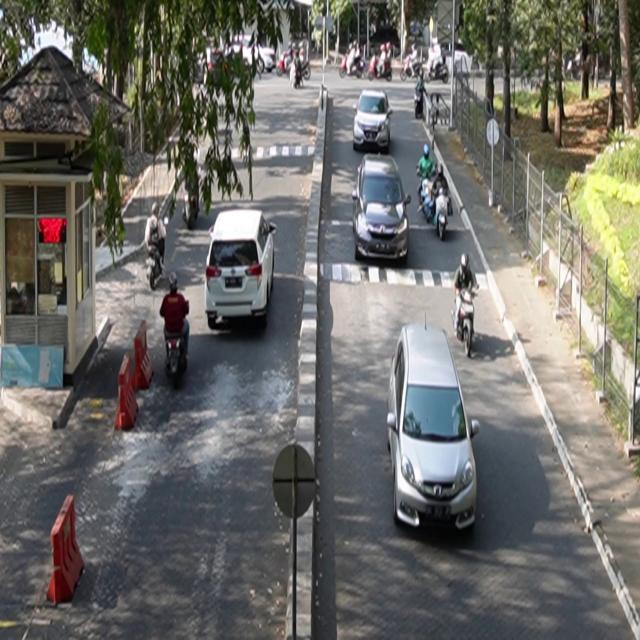car: (387, 319, 481, 533), (205, 209, 278, 330), (353, 154, 412, 263), (353, 89, 394, 154)
